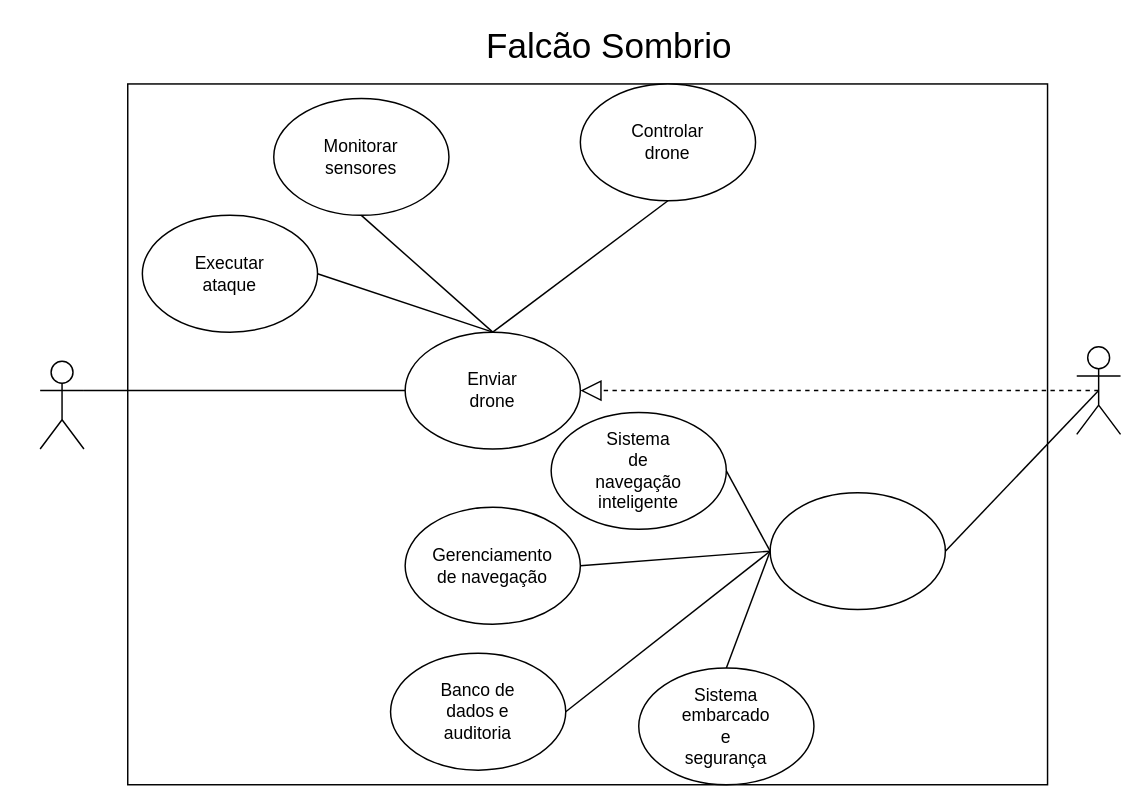
Some shapes in this 1148 by 810 pixel diagram are drawn without their labels. Each missing label, with the centre of its shape:
Central de controle: pixel 857 550
Drone: pixel 1098 389
Operador: pixel 61 404
